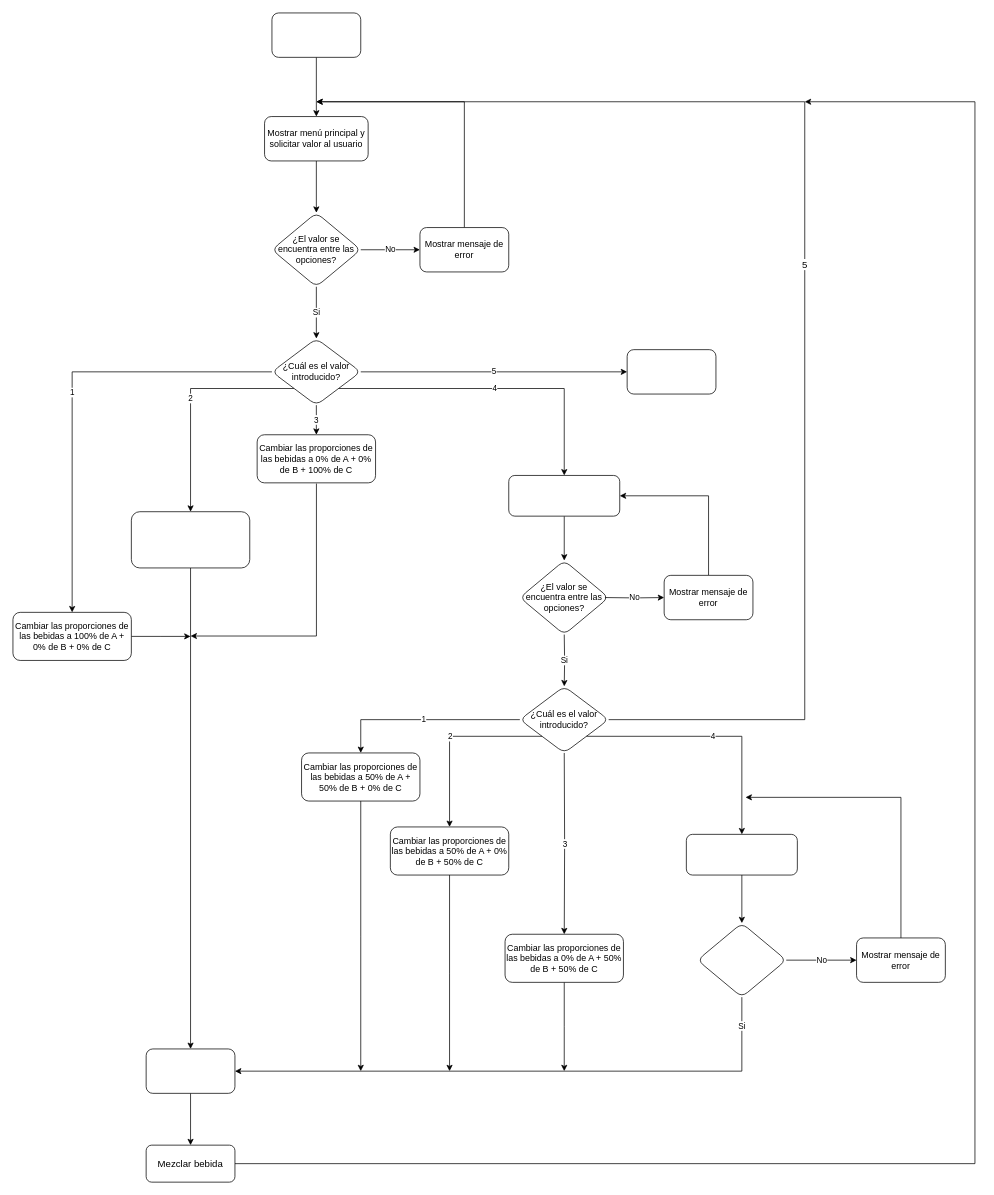
Image size: 994x1195. Some labels were removed from this diagram. The shapes that lost their labels are listed below. From the top down, each one's centre as x and y in pixels, then its label:
the point at 316,34: Se inicia el programa
the point at 671,371: Finalizar el programa
the point at 564,495: Mostrar menú de mezcla de bebidas y solicitar valor al usuario
the point at 190,539: Cambiar las proporciones de las bebidas a 0% de A + 100% de B + 0% de C
the point at 741,854: Solicitar proporciones al usuario
the point at 741,959: ¿Las proporciones suman 100?
the point at 190,1070: Enviar proporciones al microcontrolador
